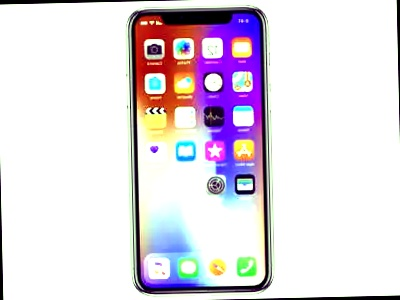iphone: (128, 6, 271, 295)
